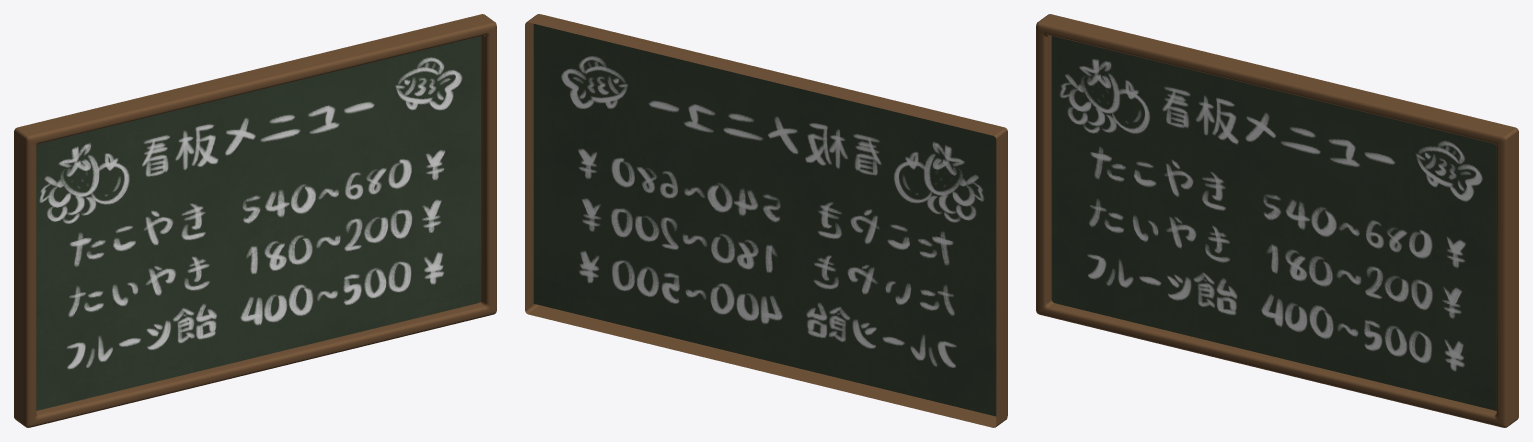
Rendered from MenuBoard.obj.
The picture shows the model from 3 angles, left to right: view 1: azimuth 30°, elevation 25°; view 2: azimuth 150°, elevation 25°; view 3: azimuth 330°, elevation 25°; orthographic projection.
Visible parts, largest first — view 1: MenuBoard_MainSG, MenuBoard_FrameSG; view 2: MenuBoard_MainSG, MenuBoard_FrameSG; view 3: MenuBoard_MainSG, MenuBoard_FrameSG.
Part boxes in pixels (x1,y1,x2,y2): MenuBoard_MainSG: (36,36,481,410); MenuBoard_FrameSG: (14,14,496,427); MenuBoard_MainSG: (533,24,996,416); MenuBoard_FrameSG: (525,14,1007,427); MenuBoard_MainSG: (1051,36,1496,410); MenuBoard_FrameSG: (1036,14,1518,427).
Bounding box in the file's own units: 9.55 × 5.66 × 0.4532.
Materials: 2 (2 with a texture image).
